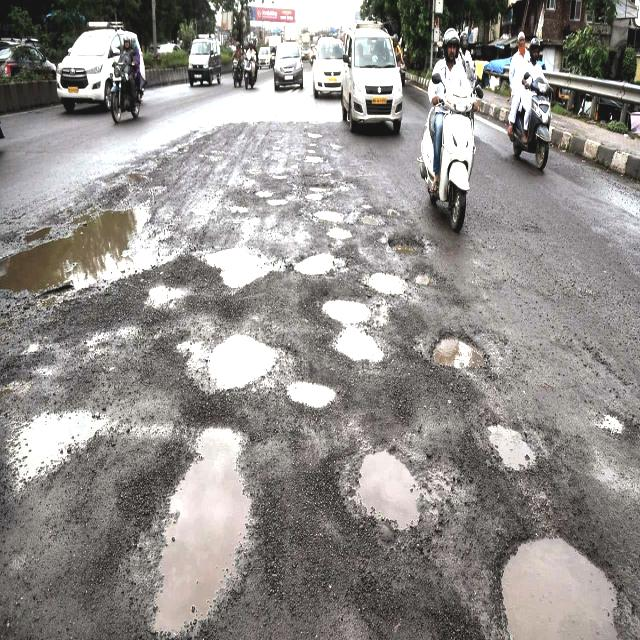Pothole: (0, 172, 389, 640)
